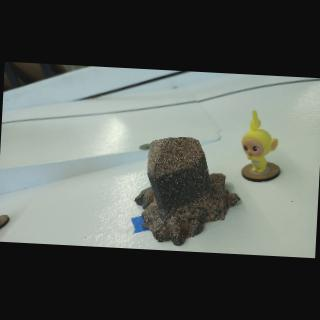teletubby: (242, 111, 278, 173)
